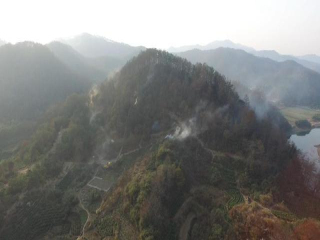smoke: (159, 99, 227, 145)
